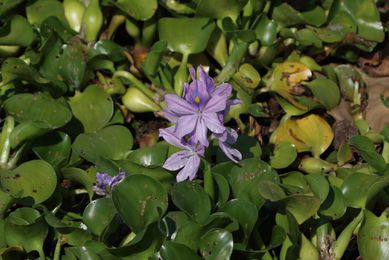water_hyacinth: (0, 0, 389, 259)
